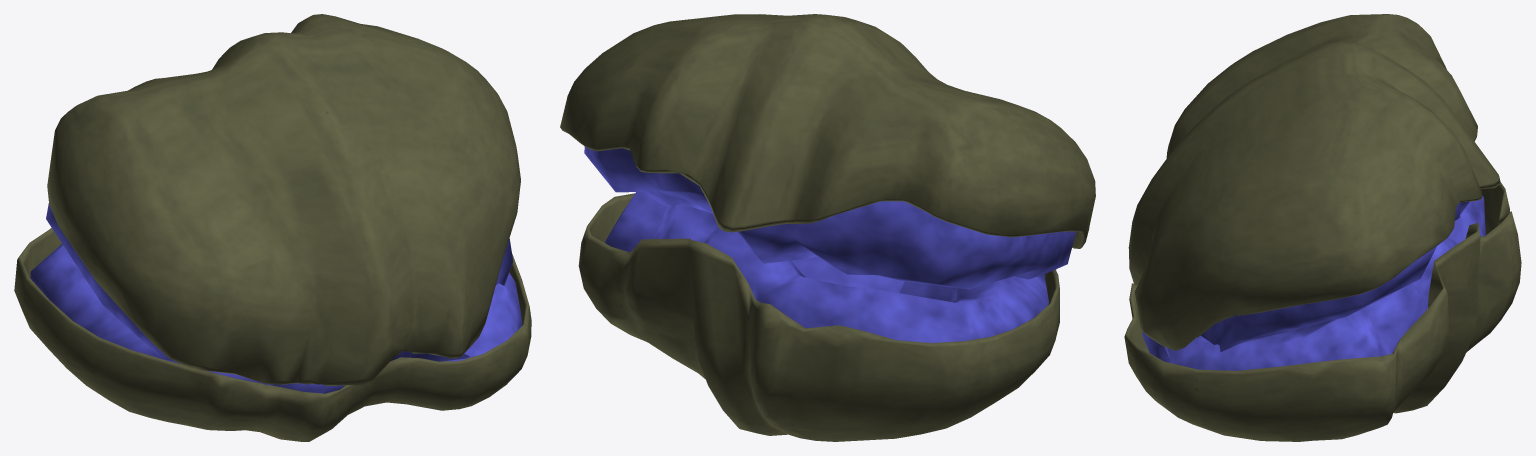
The model's file is Giant clam.glb.
The picture shows the model from 3 angles, left to right: view 1: azimuth 30°, elevation 25°; view 2: azimuth 150°, elevation 25°; view 3: azimuth 270°, elevation 25°; orthographic projection. The views are drawn at different scales.
Visible parts, largest first — view 1: Cube.001, Cube.002; view 2: Cube.001, Cube.002; view 3: Cube.001, Cube.002.
Part boxes in pixels (box(x1,y1,x2,y2)): Cube.001: box(14, 14, 531, 441); Cube.002: box(30, 203, 522, 393); Cube.001: box(560, 14, 1095, 441); Cube.002: box(584, 146, 1075, 342); Cube.001: box(1124, 14, 1521, 441); Cube.002: box(1142, 196, 1485, 370).
Bounding box in the file's own units: 3.5 × 2.87 × 2.88.
2 materials, 2 textured.
